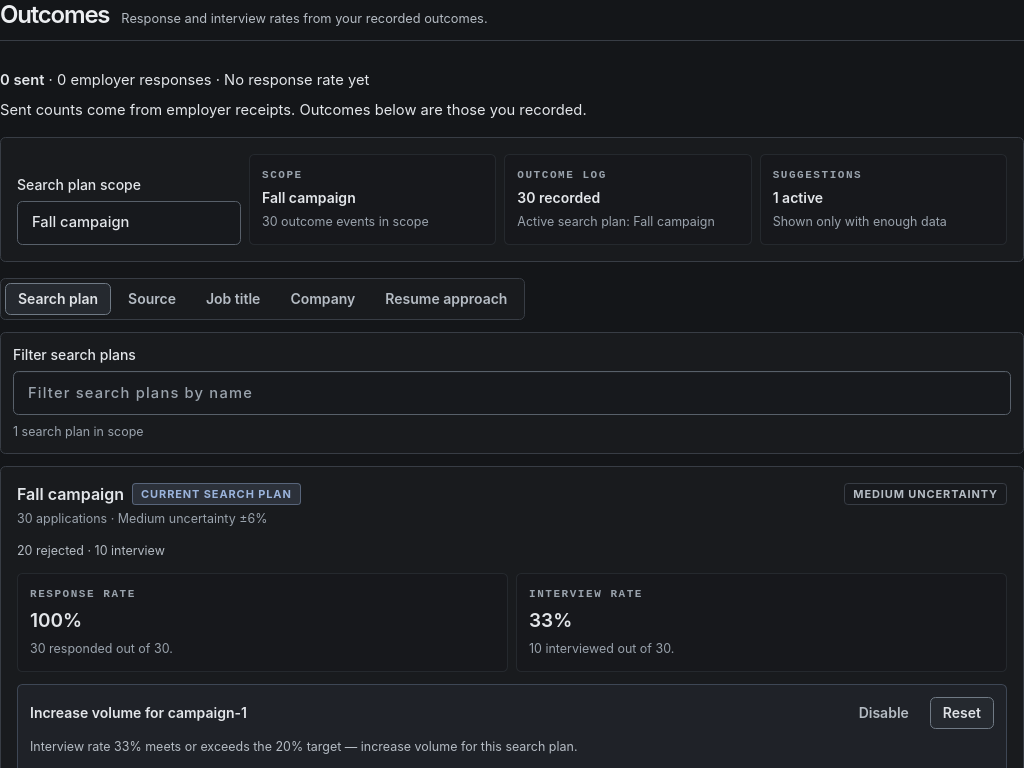
OutcomeAnalyticsScreen › filters buckets by local search and shows a no-match state
The width and height of the screenshot is (1024, 768).
Type "Fall campaign" into the search field labelled "Filter search plans" at (512, 393), box [13,371,1011,415]
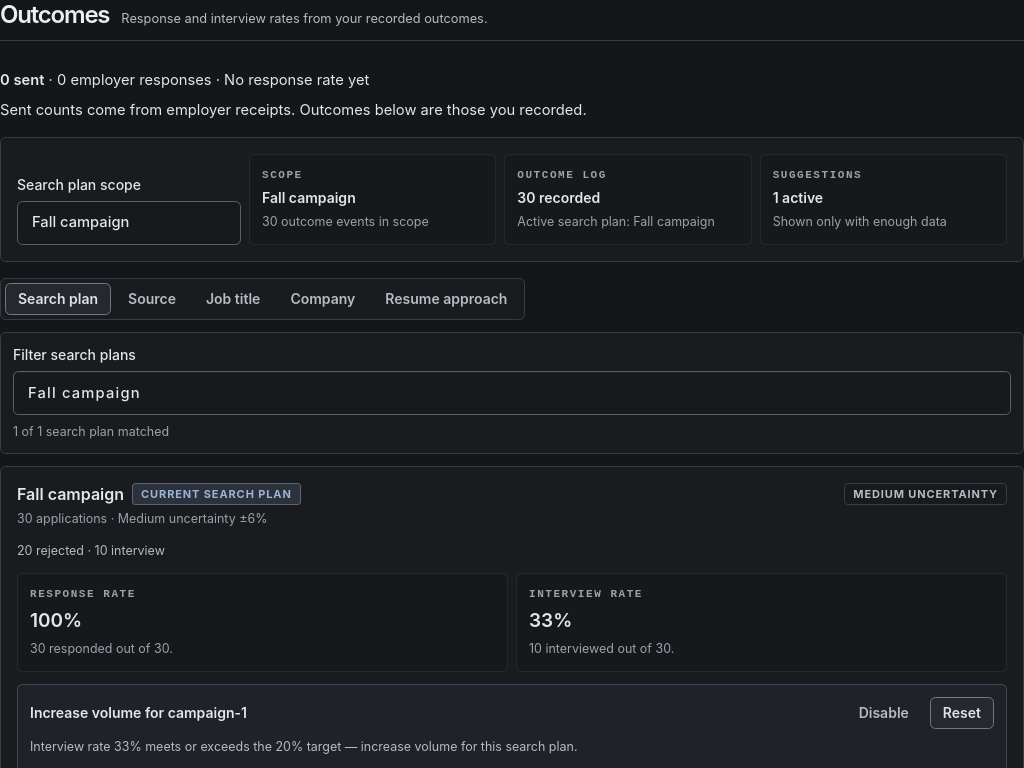
Replace the text in the search field labelled "Filter search plans" with "no-such-campaign" at (512, 393), box [13,371,1011,415]
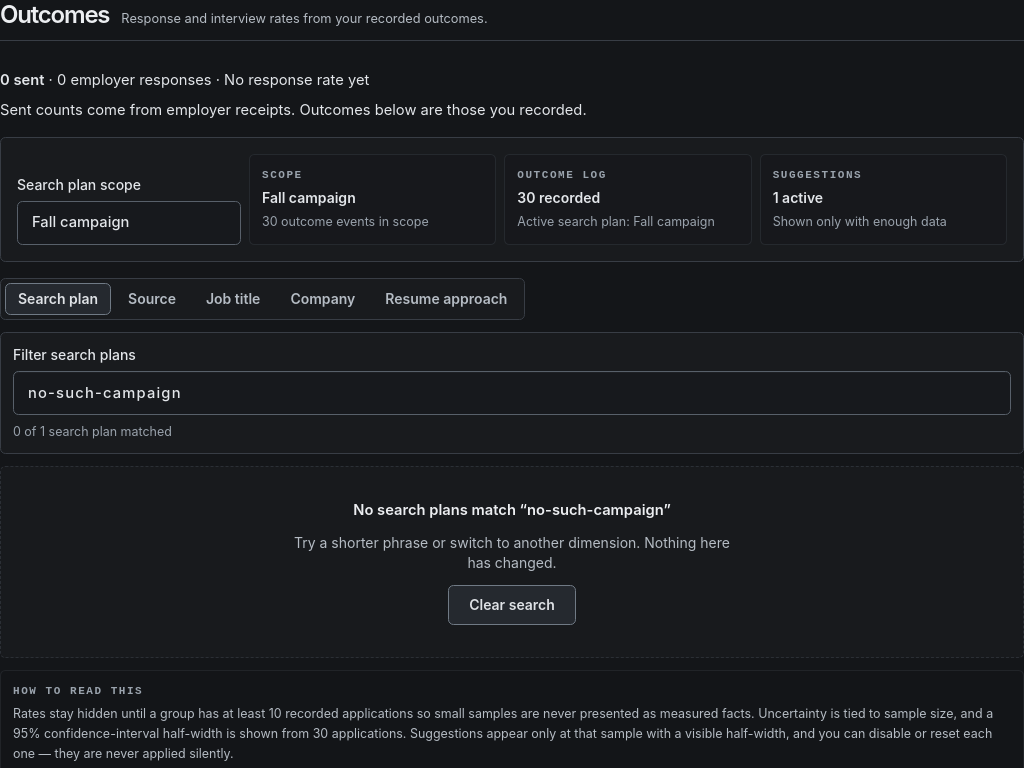
Expected: the text "No search plans match “no-such-campaign”" is shown, [353,501,671,519]
Click the button "Clear search" at (512, 606), box [448,586,576,626]
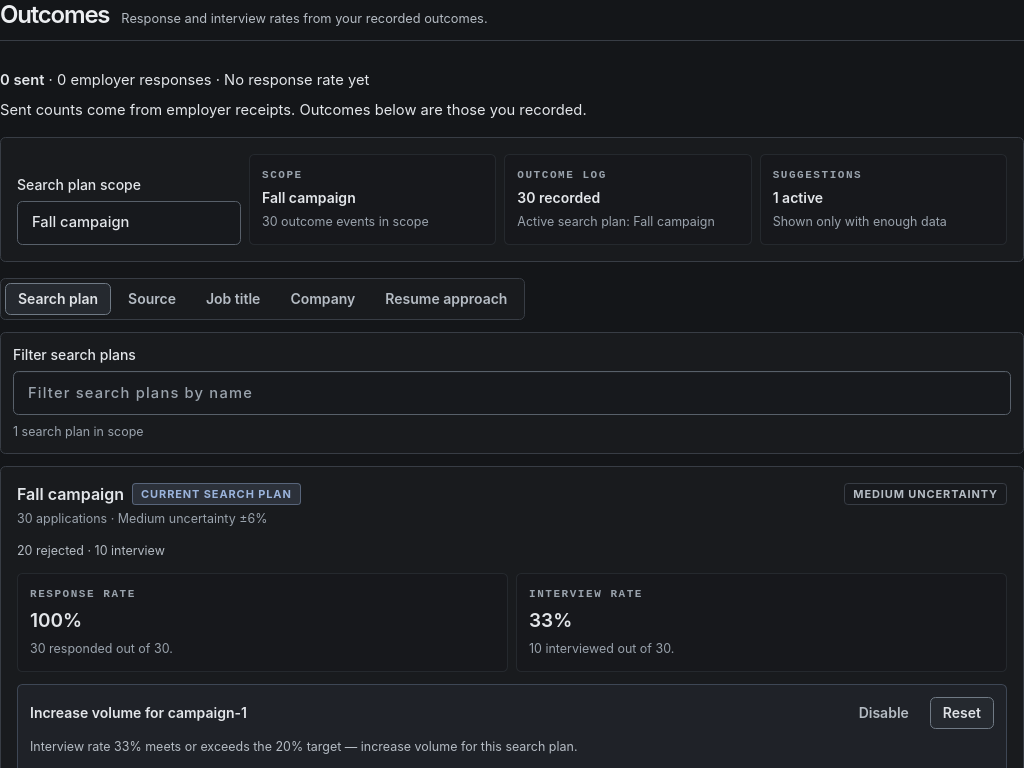
Expected: the text "No search plans match" is gone
